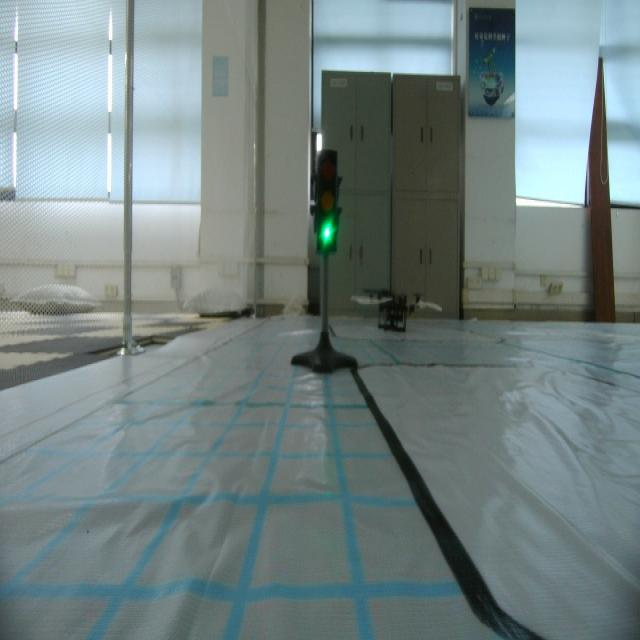green: (312, 144, 344, 255)
